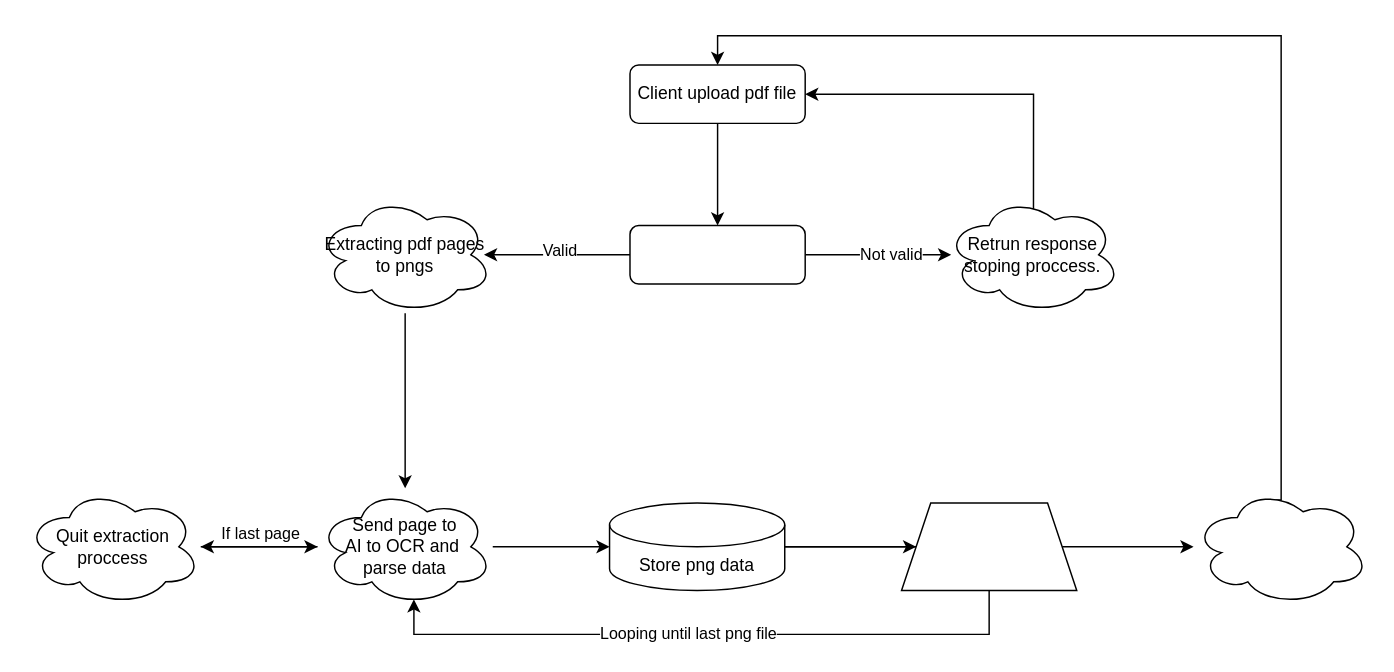
The diagram is 1394 pixels wide and 672 high, and some of its shapes have lost their labels. The shapes that lost their labels are listed below. From the top down, each one's centre as x and y in pixels, then its label:
At pixel 717 254: "Server verify file type".
At pixel 988 546: "Extract by regex patterns the relevant data".
At pixel 1280 546: "Return response to client".
